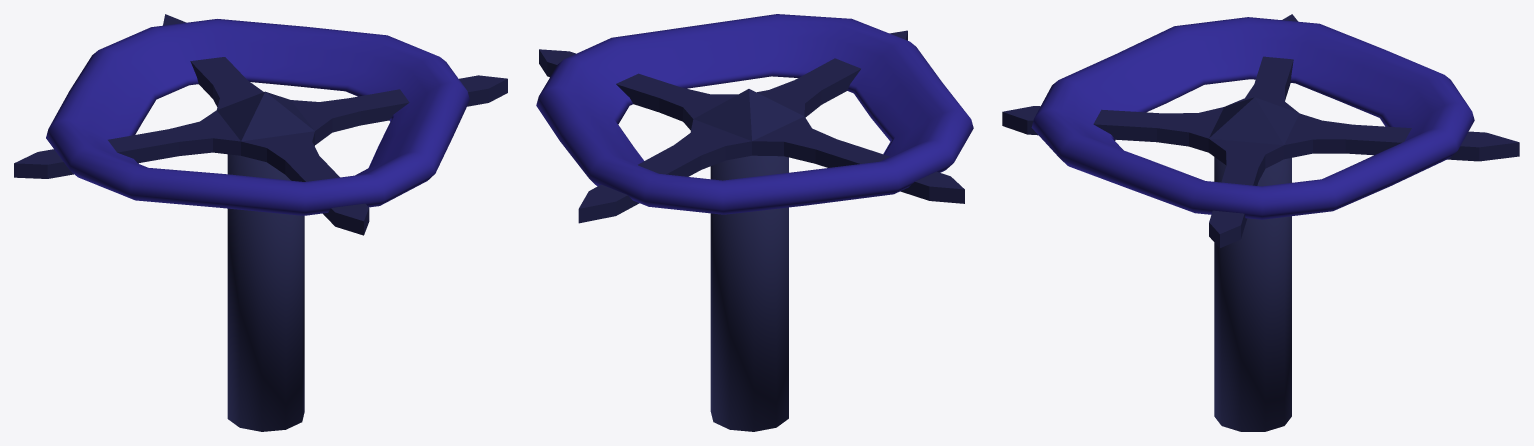
File: valve.fbx
3 renders of one model, left to right at view 1: azimuth 30°, elevation 25°; view 2: azimuth 150°, elevation 25°; view 3: azimuth 270°, elevation 25°, orthographic. The views are drawn at different scales.
Visible parts, largest first — view 1: Cylinder; view 2: Cylinder; view 3: Cylinder.
Part boxes in pixels (bbox=[...]): Cylinder: bbox=[14, 14, 507, 431]; Cylinder: bbox=[536, 14, 973, 431]; Cylinder: bbox=[1002, 14, 1519, 431].
Bounding box in the file's own units: 1215 × 821 × 1206.
